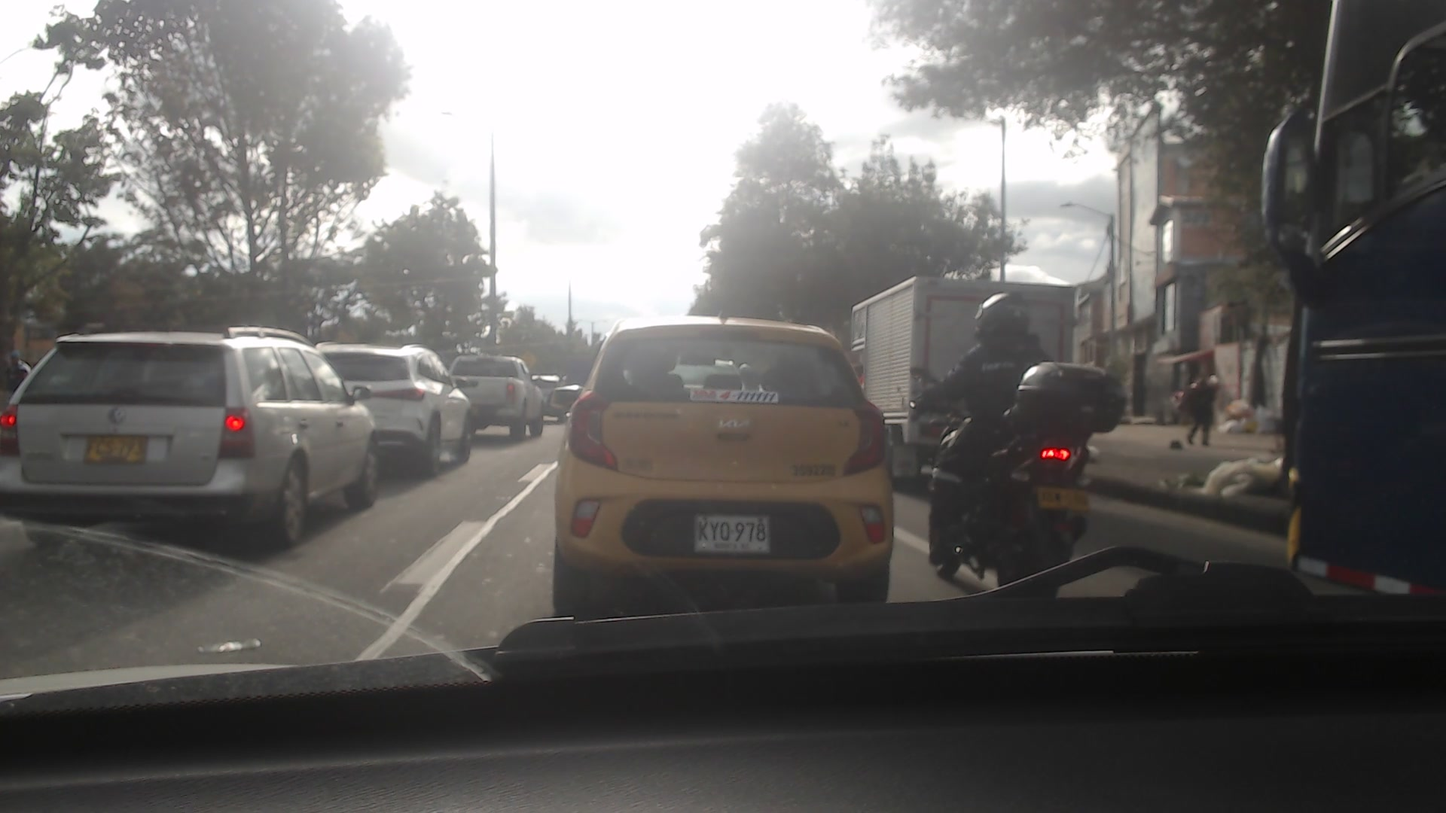car: (564, 312, 894, 612), (0, 333, 375, 537), (315, 345, 477, 467), (448, 354, 549, 435)
motorcycle: (896, 355, 1107, 595)
person: (937, 283, 1048, 550)
